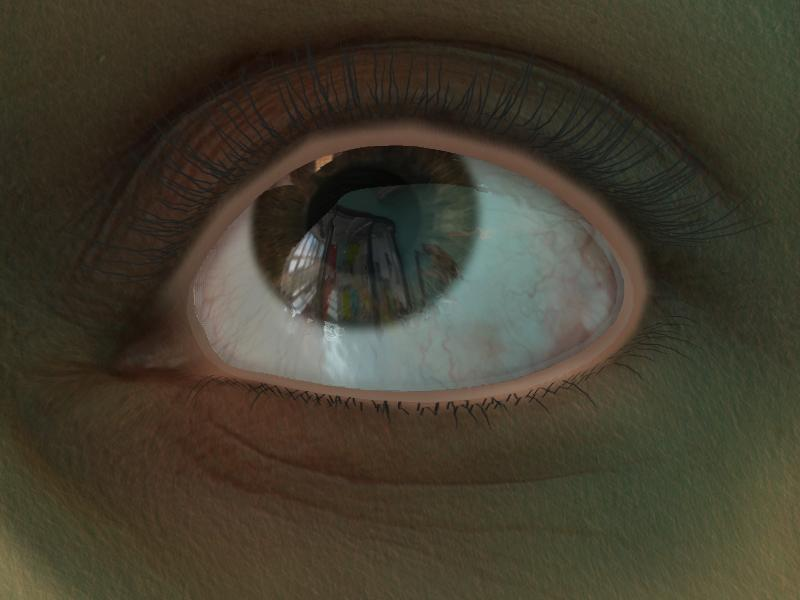eye: (250, 146, 477, 331)
